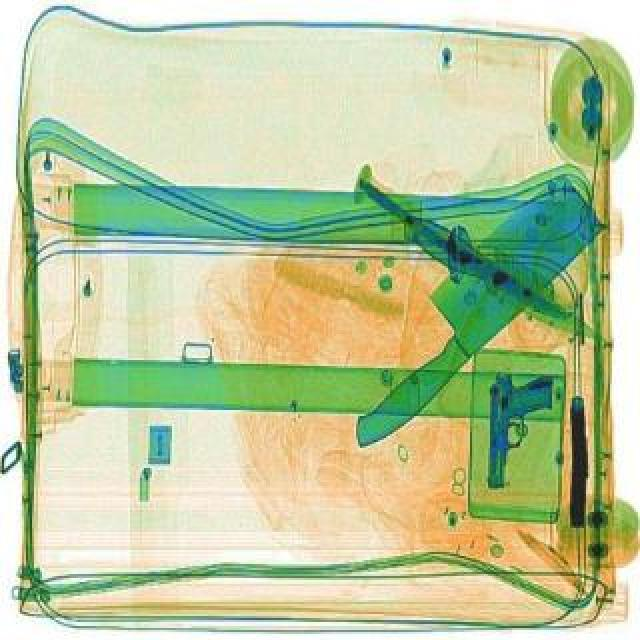gun: (486, 368, 554, 488), (568, 394, 588, 526)
knife: (312, 168, 620, 452), (358, 176, 574, 324), (394, 208, 616, 352)
